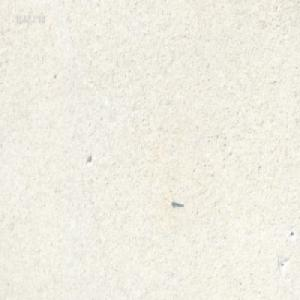Nail: (170, 198, 183, 206)
